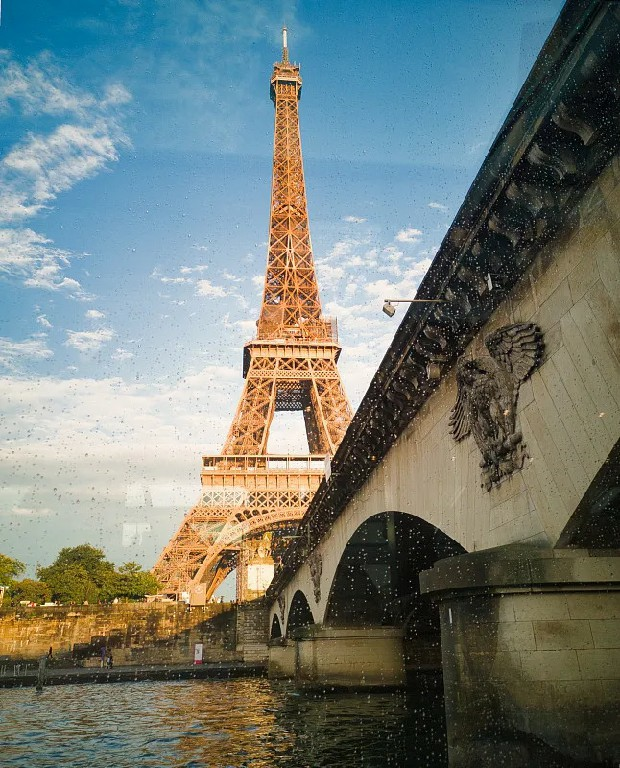Eiffel: (150, 20, 356, 597)
